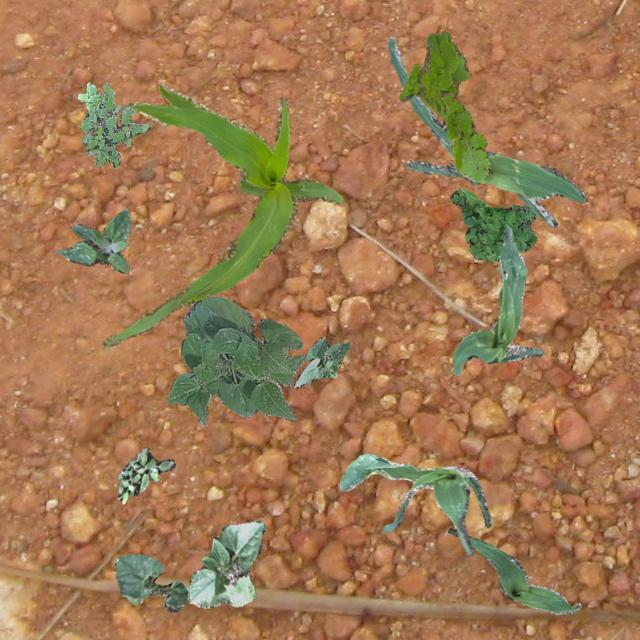crop: (101, 82, 342, 348), (386, 35, 584, 226), (164, 294, 306, 424), (338, 452, 491, 556), (452, 222, 542, 374), (446, 526, 580, 614), (188, 520, 264, 606), (114, 552, 188, 610), (292, 336, 348, 388)
weed: (398, 30, 490, 182), (76, 81, 150, 168), (450, 188, 536, 260), (56, 208, 130, 272), (116, 447, 174, 502)
